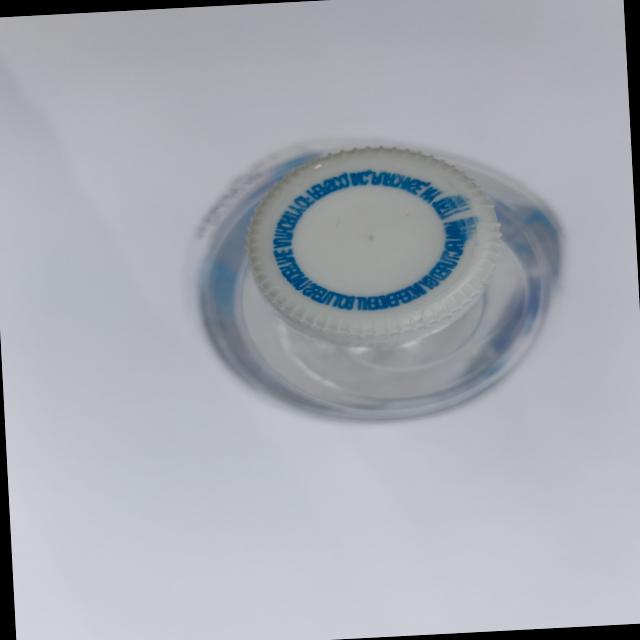Plastic: (158, 109, 602, 446)
